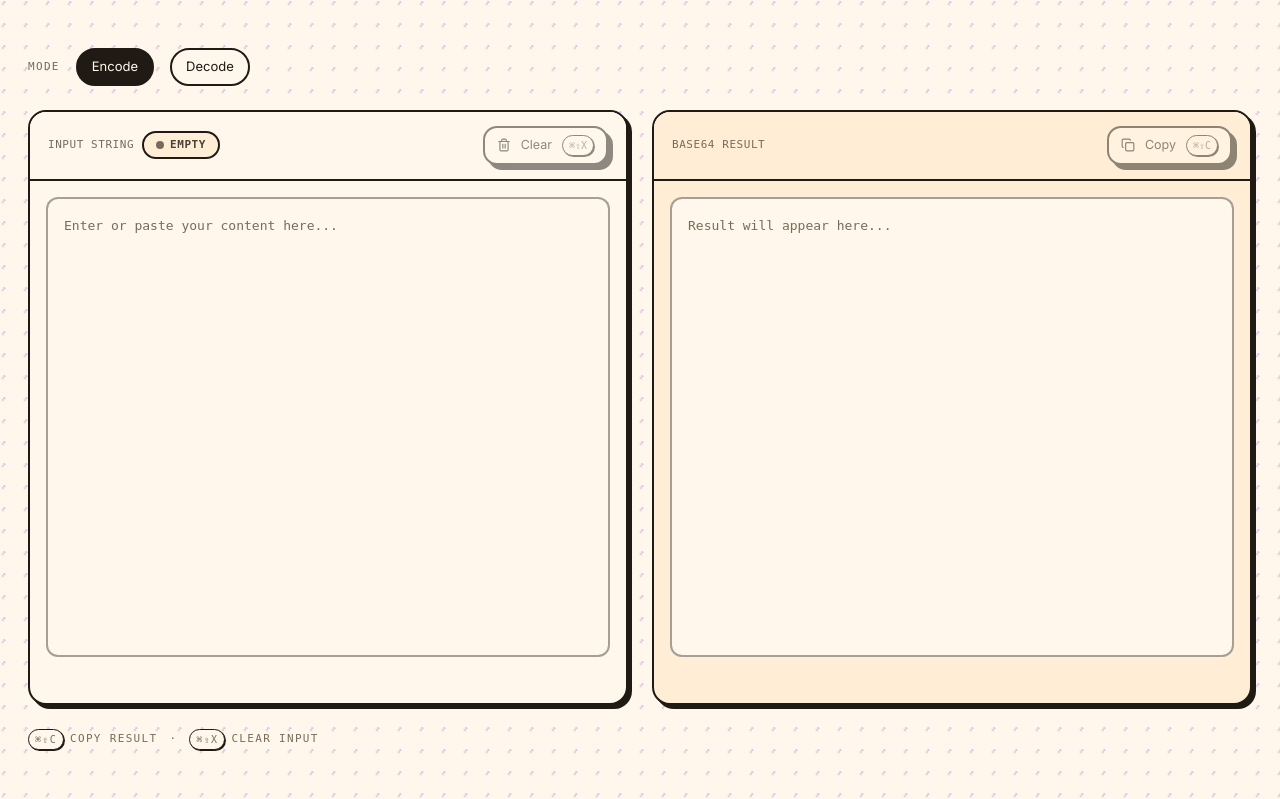
Test: Base64EncoderRoute › shows error for invalid Base64 in decode mode
Click the button "Decode" at (210, 67), box [170,48,250,86]
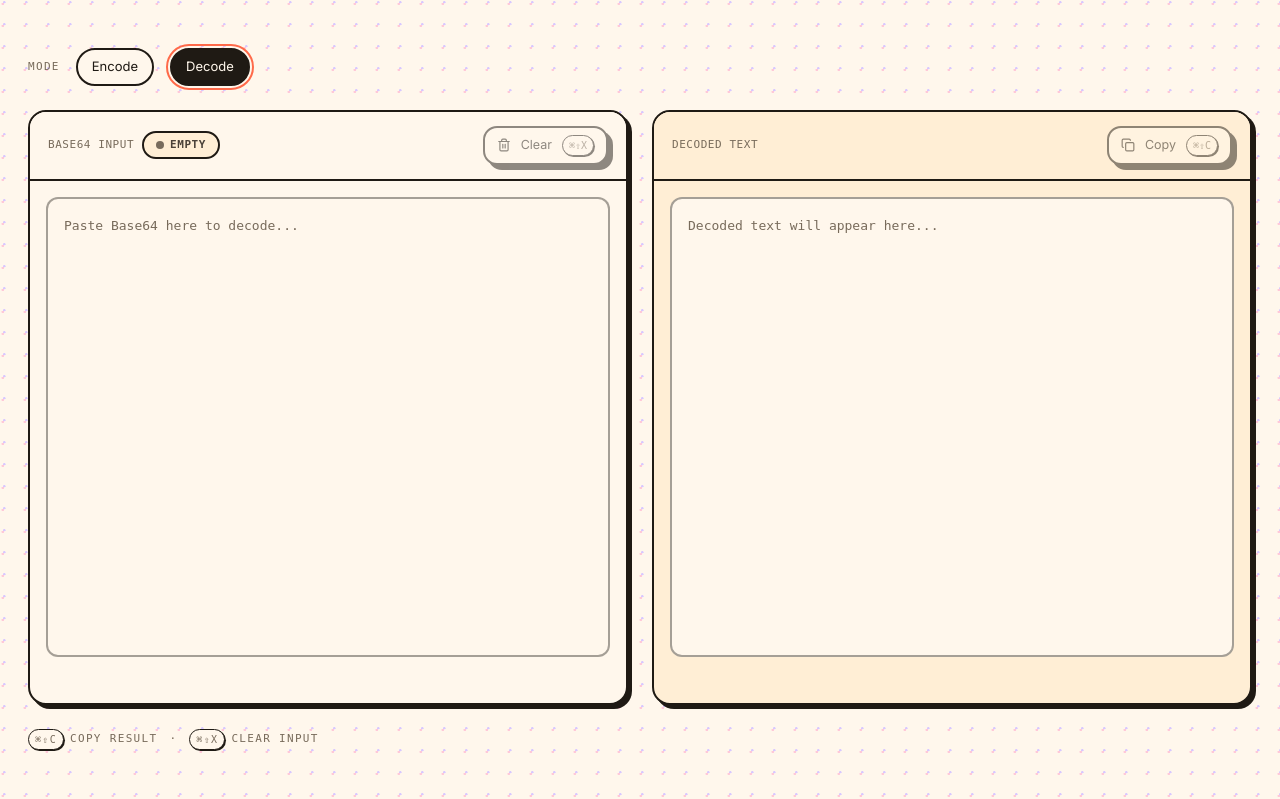
Type "!!!invalid!!!" into the text box with id "base64-input" at (328, 426), box [46,196,610,656]
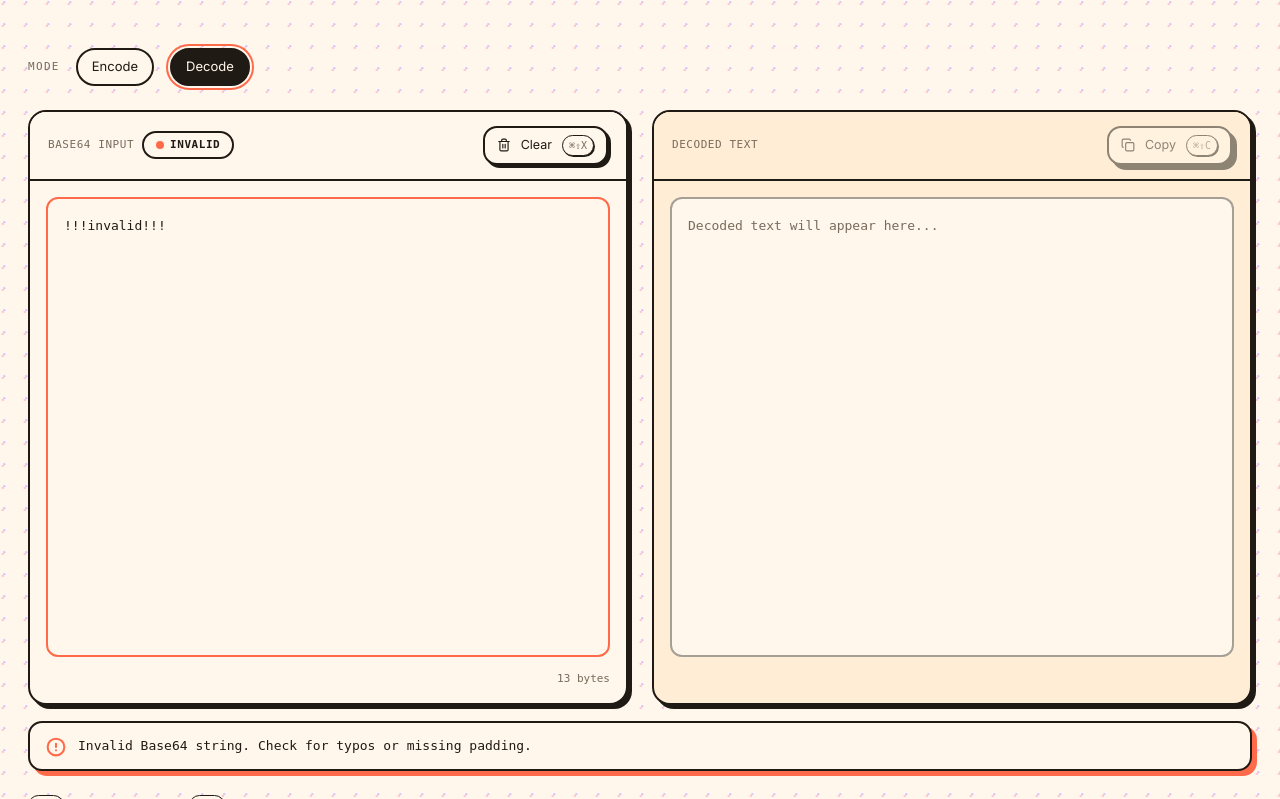
Expected: the text box with id "base64-output" is empty, [670,196,1234,656]
Expected: the text "Invalid Base64 string. Check for typos or missing padding." is shown, [78,738,532,753]
